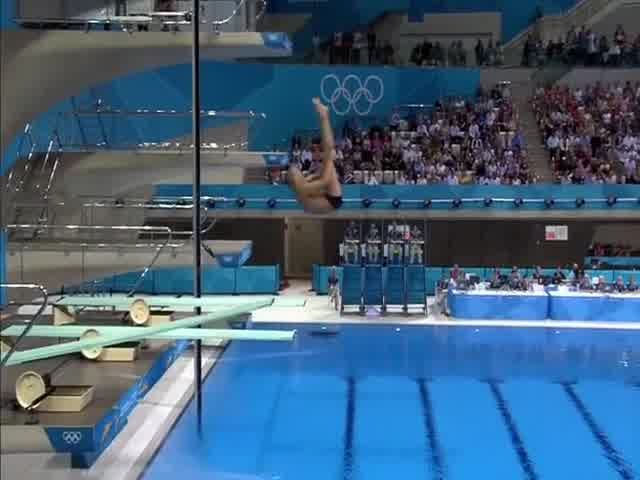diver: (281, 96, 346, 218)
